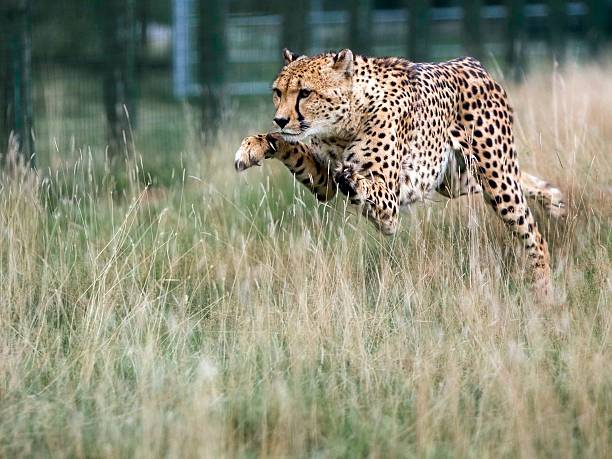cheetah: (257, 39, 389, 144)
